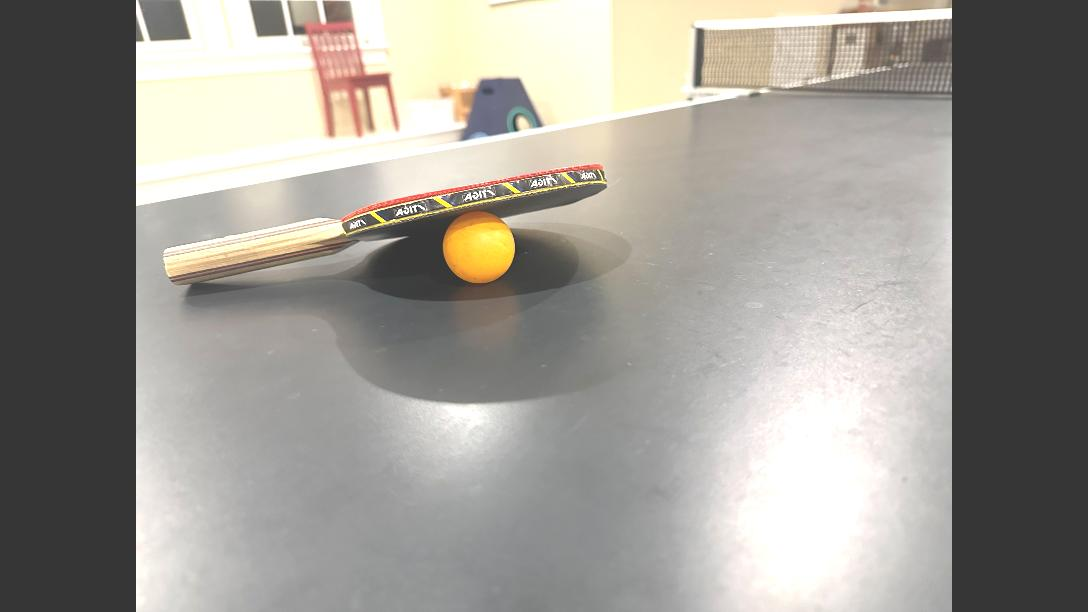Table-Tennis-Ball: (446, 209, 514, 281)
